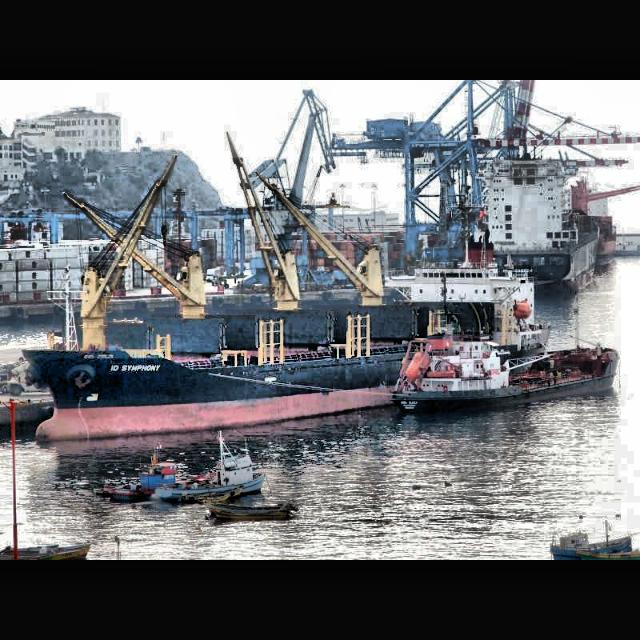bulk_carrier: (19, 130, 553, 446)
